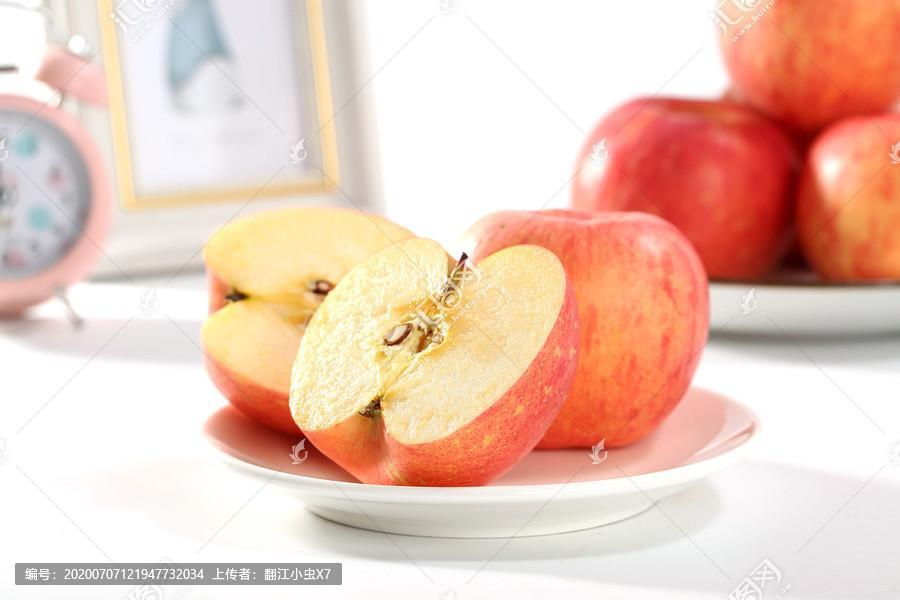apple: (451, 209, 703, 449), (570, 96, 797, 284)
